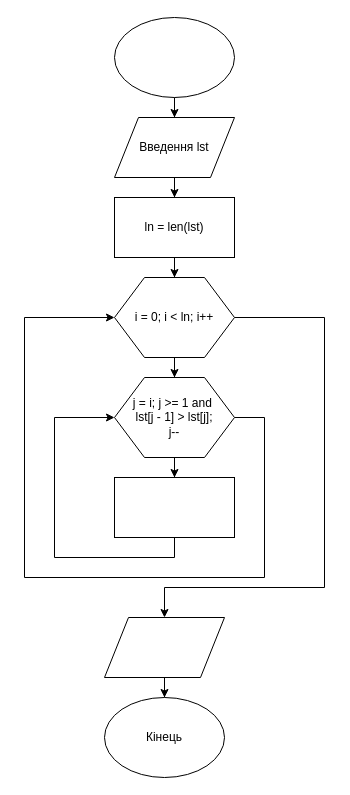
Some shapes in this 350 by 795 pixel diagram are drawn without their labels. The shapes that lost their labels are listed below. From the top down, each one's box as (x1, y1, x2, y2) in pixels, then its label:
(114, 16, 234, 98): Початок
(114, 476, 234, 538): swap(lst[j - 1], lst[j])
(104, 616, 224, 678): Виведення lst
